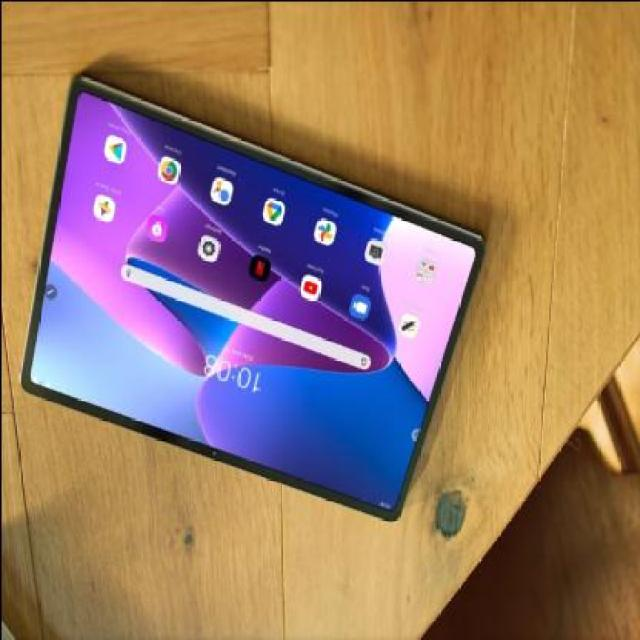tablet: (13, 47, 488, 515)
